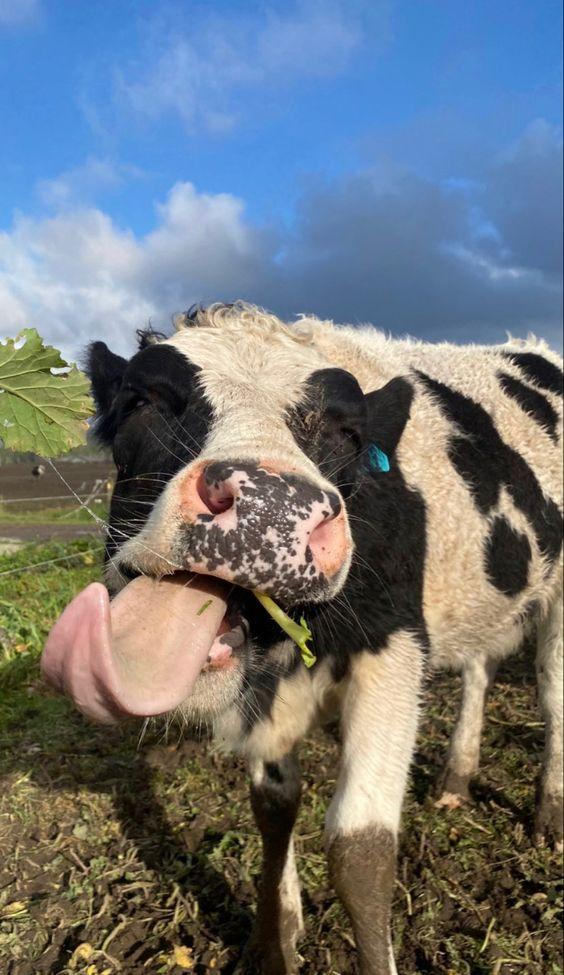cow: (53, 248, 564, 898)
